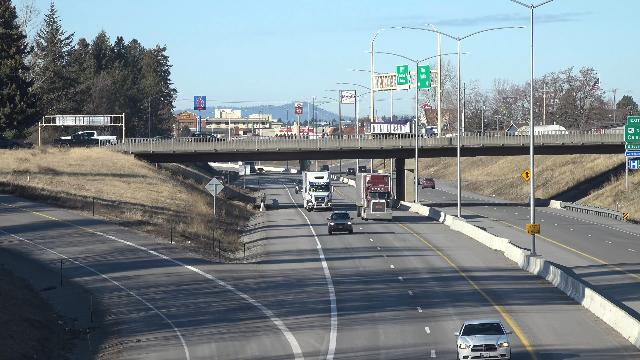car: (452, 320, 513, 356), (326, 210, 357, 234), (423, 176, 437, 191)
pickup-truck: (46, 128, 113, 151)
truck: (352, 171, 399, 221), (302, 171, 338, 211)
